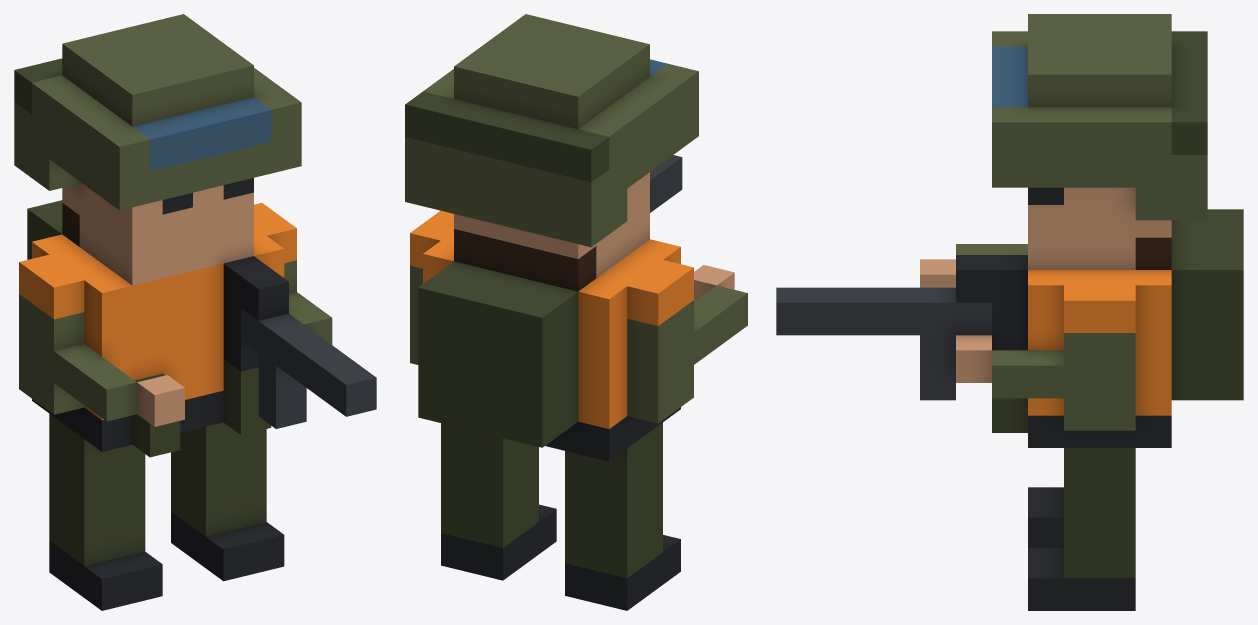
The model's file is cm_rifle_5.glb.
3 renders of one model, left to right at view 1: azimuth 30°, elevation 25°; view 2: azimuth 150°, elevation 25°; view 3: azimuth 270°, elevation 25°, orthographic. The views are drawn at different scales.
Parts seen in each view (by area): view 1: cm_rifle_5_body; view 2: cm_rifle_5_body; view 3: cm_rifle_5_body.
Boxes of the visible parts, <box> form: cm_rifle_5_body: <box>14,14,376,610</box>; cm_rifle_5_body: <box>405,14,747,610</box>; cm_rifle_5_body: <box>776,14,1243,610</box>.
Bounding box in the file's own units: 0.5 × 1 × 0.8125.
Materials: 1 (1 with a texture image).
